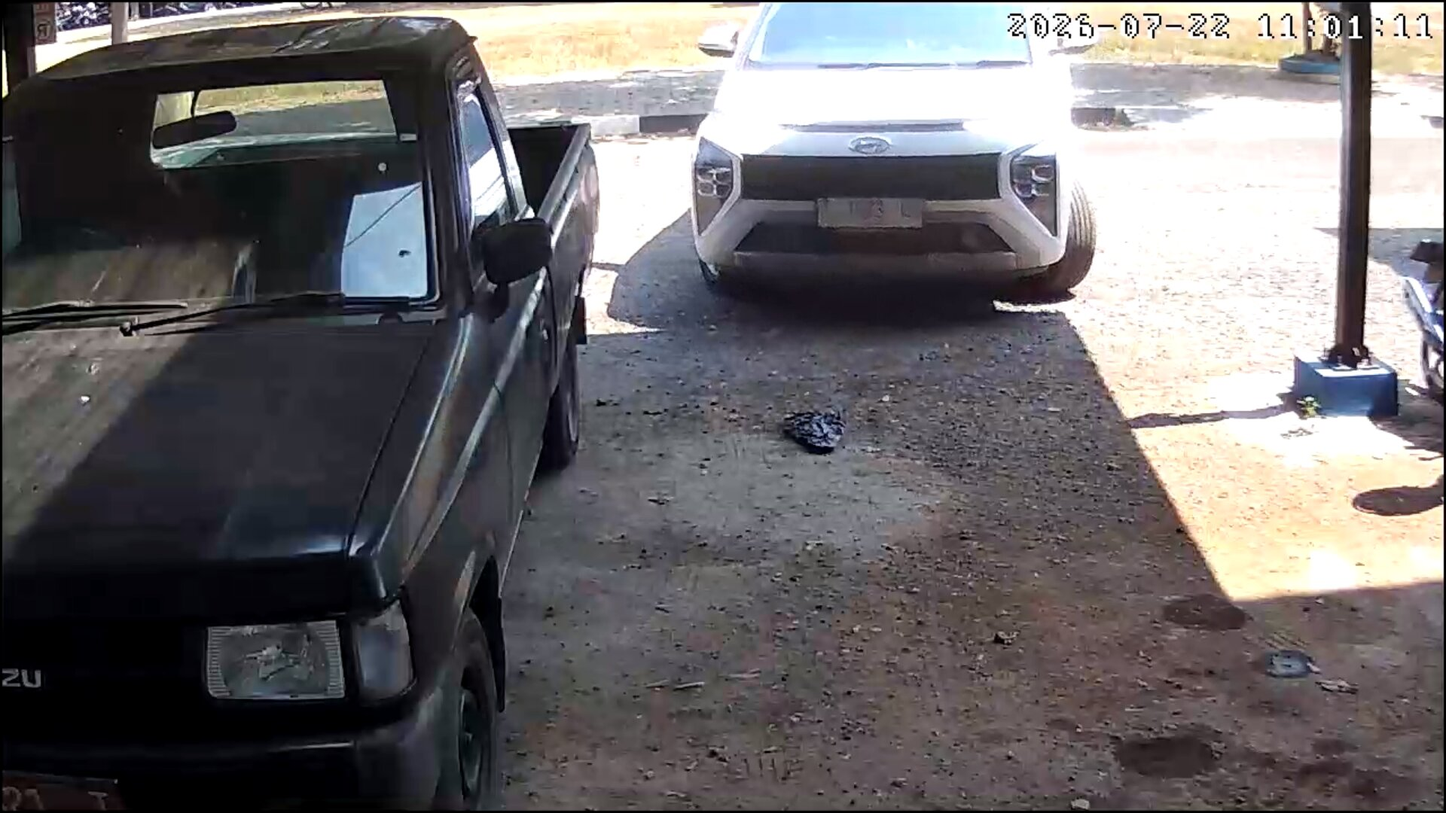plat nomor: (817, 197, 923, 230)
